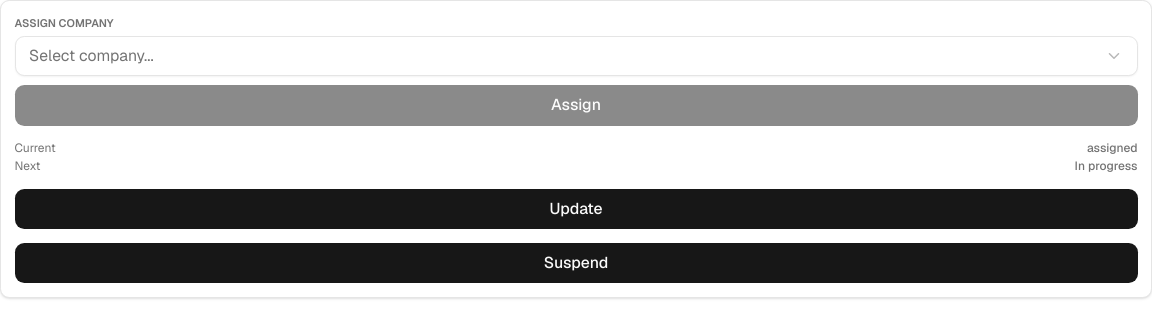
it: OfficerReportMenu › should allow selecting a company
Click the dropdown: [91, 55] box x1=14 y1=36 x2=1138 y2=76
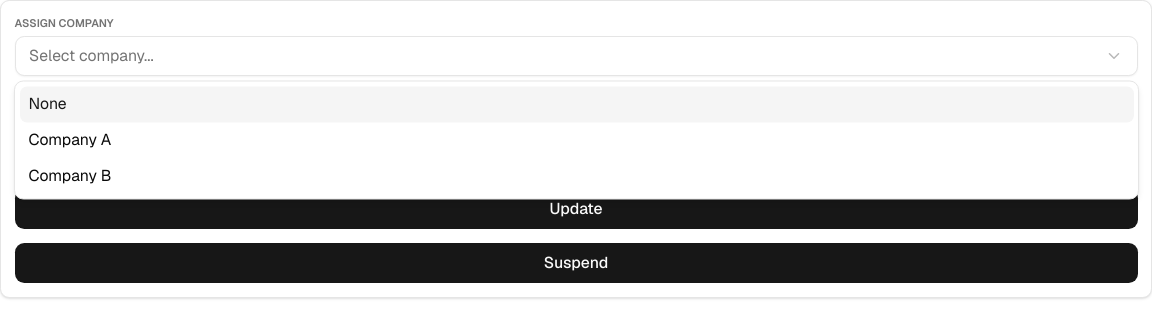
Click the option "Company A": [70, 139] box x1=28 y1=129 x2=111 y2=150
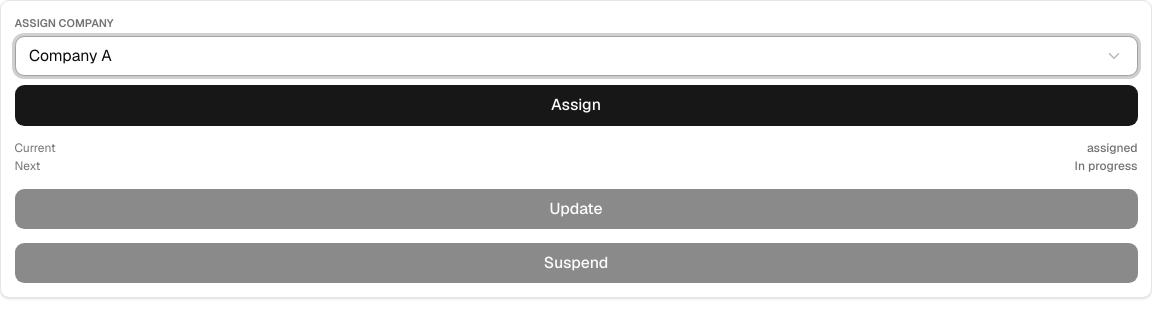
Expected: the button "Assign" is enabled, x1=14 y1=85 x2=1138 y2=126
